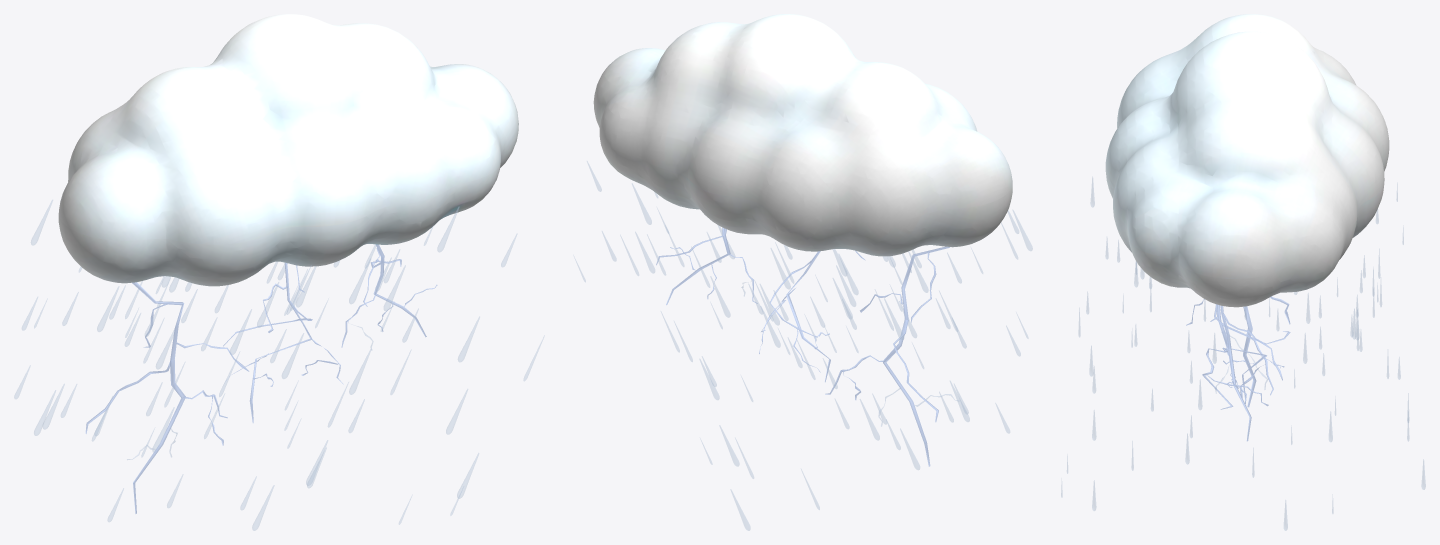
Rendered from Cloud-transformed.glb.
3 views of the same model, side by side, from view 1: azimuth 30°, elevation 25°; view 2: azimuth 150°, elevation 25°; view 3: azimuth 270°, elevation 25° (orthographic). The views are drawn at different scales.
Visible parts, largest first — view 1: Mball.034, th bolt.001, th bolt.002, th bolt.000; view 2: Mball.034, th bolt.001, th bolt.002, th bolt.000; view 3: Mball.034, th bolt.002, th bolt.000, th bolt.001.
Boxes of the visible parts, x1,y1,x2,y2 form: Mball.034: (58, 14, 518, 286); th bolt.001: (85, 282, 249, 513); th bolt.002: (223, 262, 343, 423); th bolt.000: (341, 244, 437, 350); Mball.034: (593, 14, 1012, 256); th bolt.001: (825, 246, 958, 466); th bolt.002: (759, 250, 865, 382); th bolt.000: (656, 227, 757, 305); Mball.034: (1105, 14, 1389, 307); th bolt.002: (1202, 304, 1290, 409); th bolt.000: (1186, 299, 1282, 441); th bolt.001: (1210, 296, 1290, 407).
Bounding box in the file's own units: 11 × 11.35 × 7.92.
3 materials, 3 textured.
